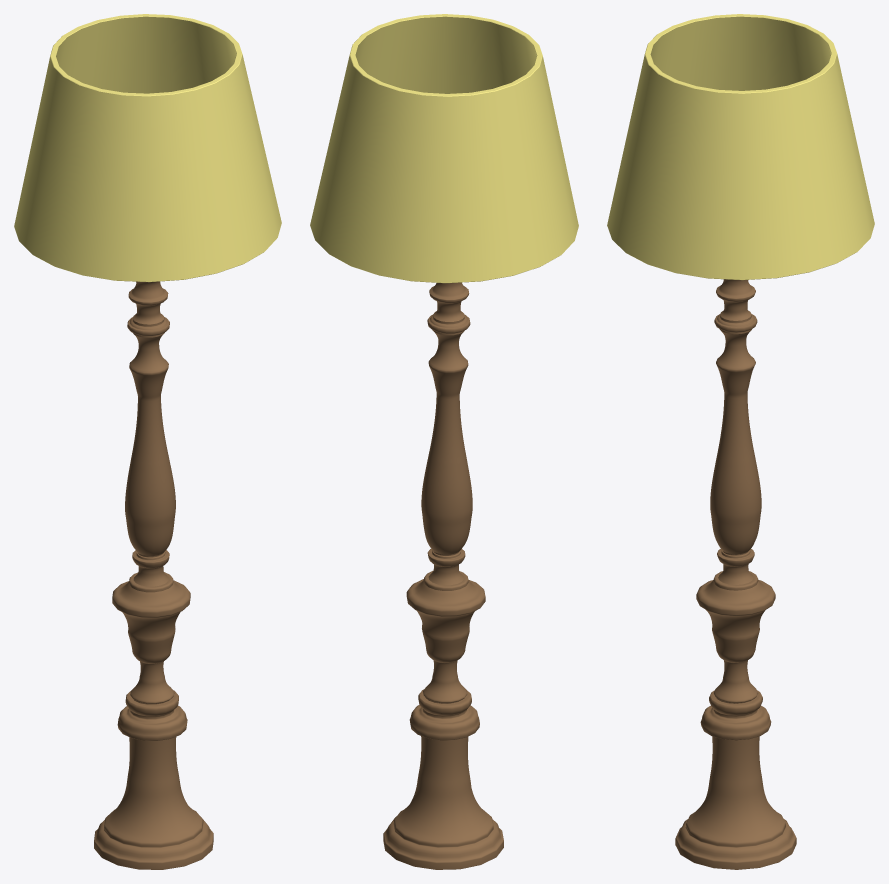
File: Lamp.obj
3 views of the same model, side by side, from view 1: azimuth 30°, elevation 25°; view 2: azimuth 150°, elevation 25°; view 3: azimuth 270°, elevation 25° (orthographic).
Parts seen in each view (by area): view 1: polySurface2; view 2: polySurface2; view 3: polySurface2.
Boxes of the visible parts, x1=… form: polySurface2: x1=14, y1=14, x2=281, y2=869; polySurface2: x1=310, y1=14, x2=578, y2=869; polySurface2: x1=607, y1=14, x2=874, y2=869.
Size of the model in its own units: 1.48 by 4.81 by 1.48.
Materials: 3 (3 with a texture image).
